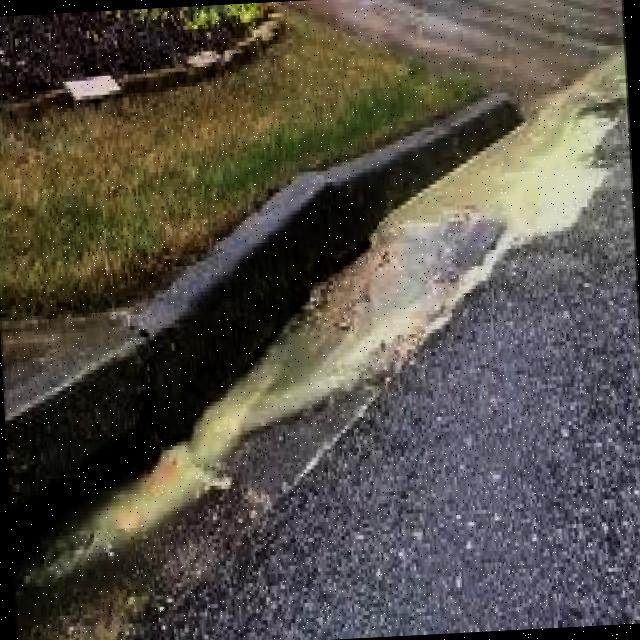curb: (128, 165, 307, 426), (1, 296, 163, 544), (310, 78, 517, 245)
